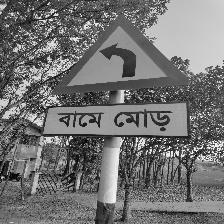Left-Turn: (46, 13, 193, 134)
